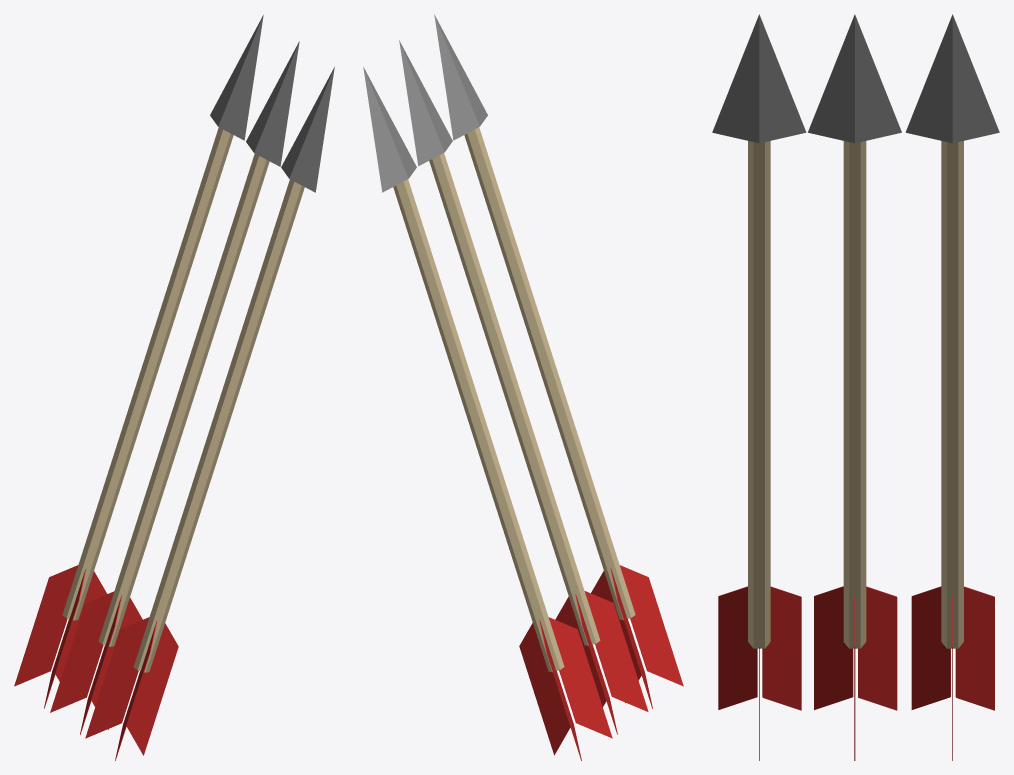
File: arrowPickup_triple.dae
3 views of the same model, side by side, from view 1: azimuth 30°, elevation 25°; view 2: azimuth 150°, elevation 25°; view 3: azimuth 270°, elevation 25° (orthographic). The views are drawn at different scales.
Visible parts, largest first — view 1: Cylinder_003, Cylinder_001, Cylinder_004, Cube_010, Cube_007, Cube_003, Cube_009, Cube_008, Cube_002; view 2: Cylinder_004, Cylinder_001, Cylinder_003, Cube_007, Cube_003, Cube_010, Cube_002, Cube_009, Cube_008; view 3: Cylinder_001, Cylinder_003, Cylinder_004, Cube_003, Cube_010, Cube_007, Cube_008, Cube_009, Cube_002.
Boxes of the visible parts, x1,y1,x2,y2 form: Cylinder_003: [62, 127, 233, 620]; Cylinder_001: [98, 154, 269, 646]; Cylinder_004: [133, 179, 304, 672]; Cube_010: [85, 617, 178, 760]; Cube_007: [14, 565, 106, 708]; Cube_003: [50, 591, 142, 734]; Cube_009: [281, 66, 334, 192]; Cube_008: [210, 15, 263, 140]; Cube_002: [246, 41, 299, 166]; Cylinder_004: [464, 127, 635, 620]; Cylinder_001: [429, 153, 600, 645]; Cylinder_003: [393, 179, 564, 672]; Cube_007: [519, 617, 612, 760]; Cube_003: [555, 591, 648, 734]; Cube_010: [591, 565, 683, 708]; Cube_002: [399, 40, 452, 166]; Cube_009: [434, 14, 487, 140]; Cube_008: [363, 67, 416, 192]; Cylinder_001: [843, 141, 866, 648]; Cylinder_003: [941, 141, 963, 648]; Cylinder_004: [748, 141, 770, 648]; Cube_003: [814, 586, 897, 760]; Cube_010: [718, 586, 801, 760]; Cube_007: [911, 586, 994, 760]; Cube_008: [905, 14, 999, 143]; Cube_009: [712, 14, 806, 143]; Cube_002: [808, 14, 901, 143].
Size of the model in its own units: 0.9719 by 0.7588 by 2.54.
